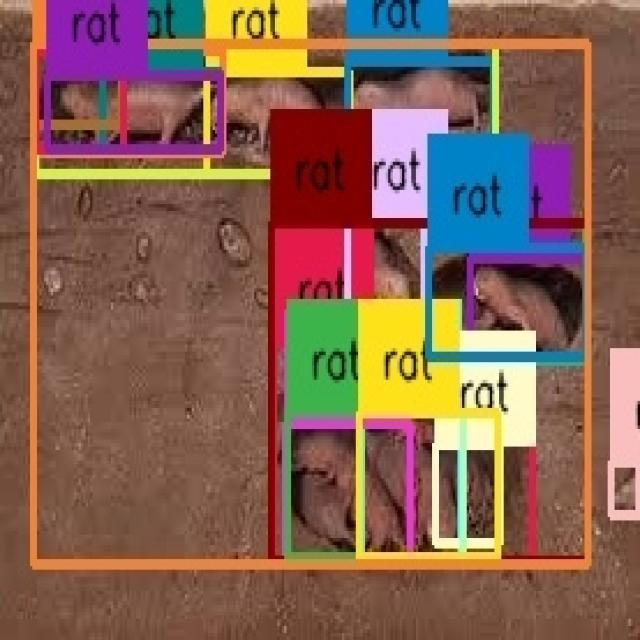rat: (35, 42, 589, 566), (270, 222, 587, 562), (36, 46, 496, 172), (272, 343, 534, 561), (348, 224, 586, 360), (289, 412, 499, 559), (287, 415, 462, 559), (359, 412, 498, 556), (36, 49, 223, 151), (427, 250, 587, 358), (286, 424, 409, 561), (207, 70, 350, 176), (348, 60, 493, 162), (362, 413, 461, 558), (46, 74, 222, 151), (470, 258, 586, 357), (101, 74, 222, 148), (34, 49, 122, 148), (348, 225, 424, 334), (34, 49, 122, 127), (436, 445, 500, 543), (611, 463, 639, 515)
